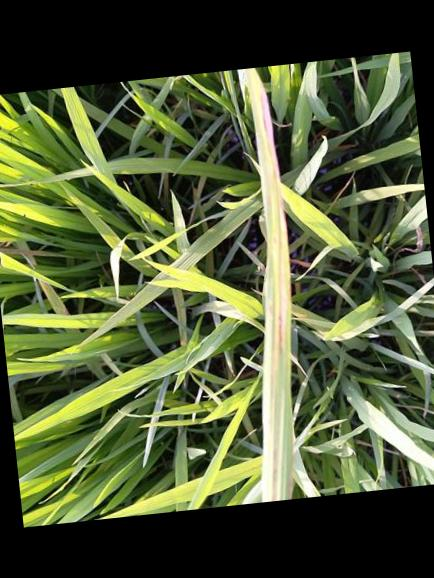Leaf Streak: (243, 67, 294, 503)
